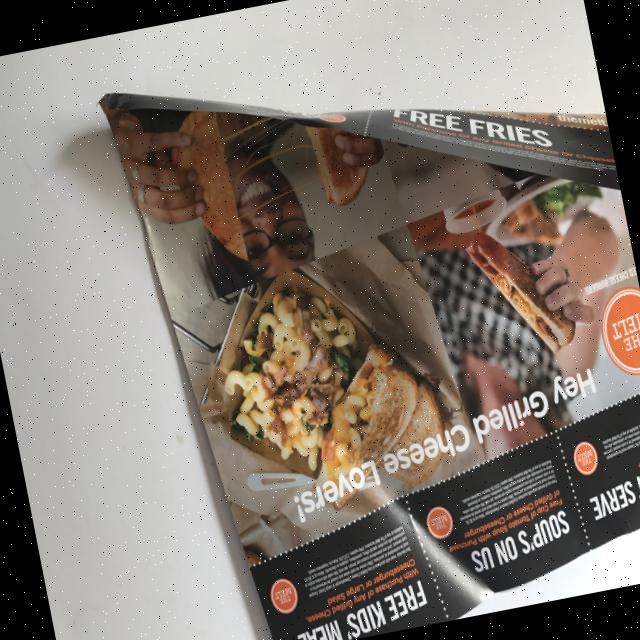paper: (95, 0, 640, 640)
